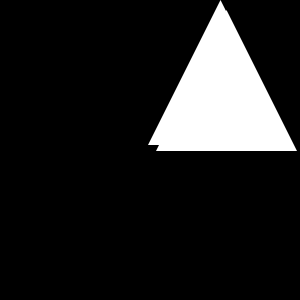triangle: (148, 0, 293, 145), (156, 10, 297, 151), (167, 31, 287, 151)
